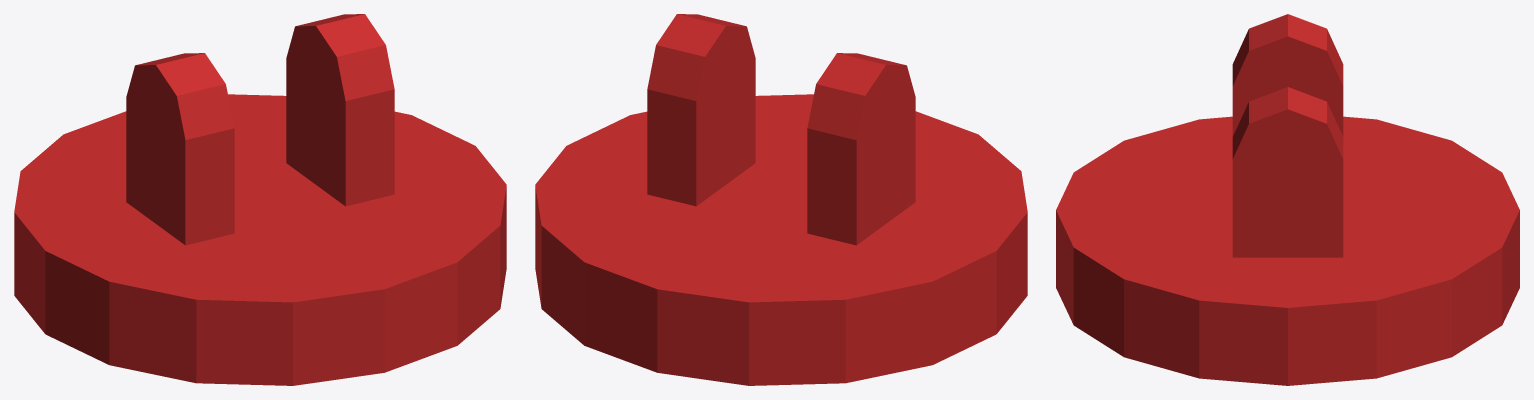
3 renders of one model, left to right at view 1: azimuth 30°, elevation 25°; view 2: azimuth 150°, elevation 25°; view 3: azimuth 270°, elevation 25°, orthographic. The views are drawn at different scales.
Parts seen in each view (by area): view 1: 1_base; view 2: 1_base; view 3: 1_base.
Part boxes in pixels (bbox=[...]): 1_base: bbox=[14, 14, 506, 385]; 1_base: bbox=[535, 14, 1027, 385]; 1_base: bbox=[1056, 14, 1519, 385].
Bounding box in the file's own units: 403 × 403 × 217.
